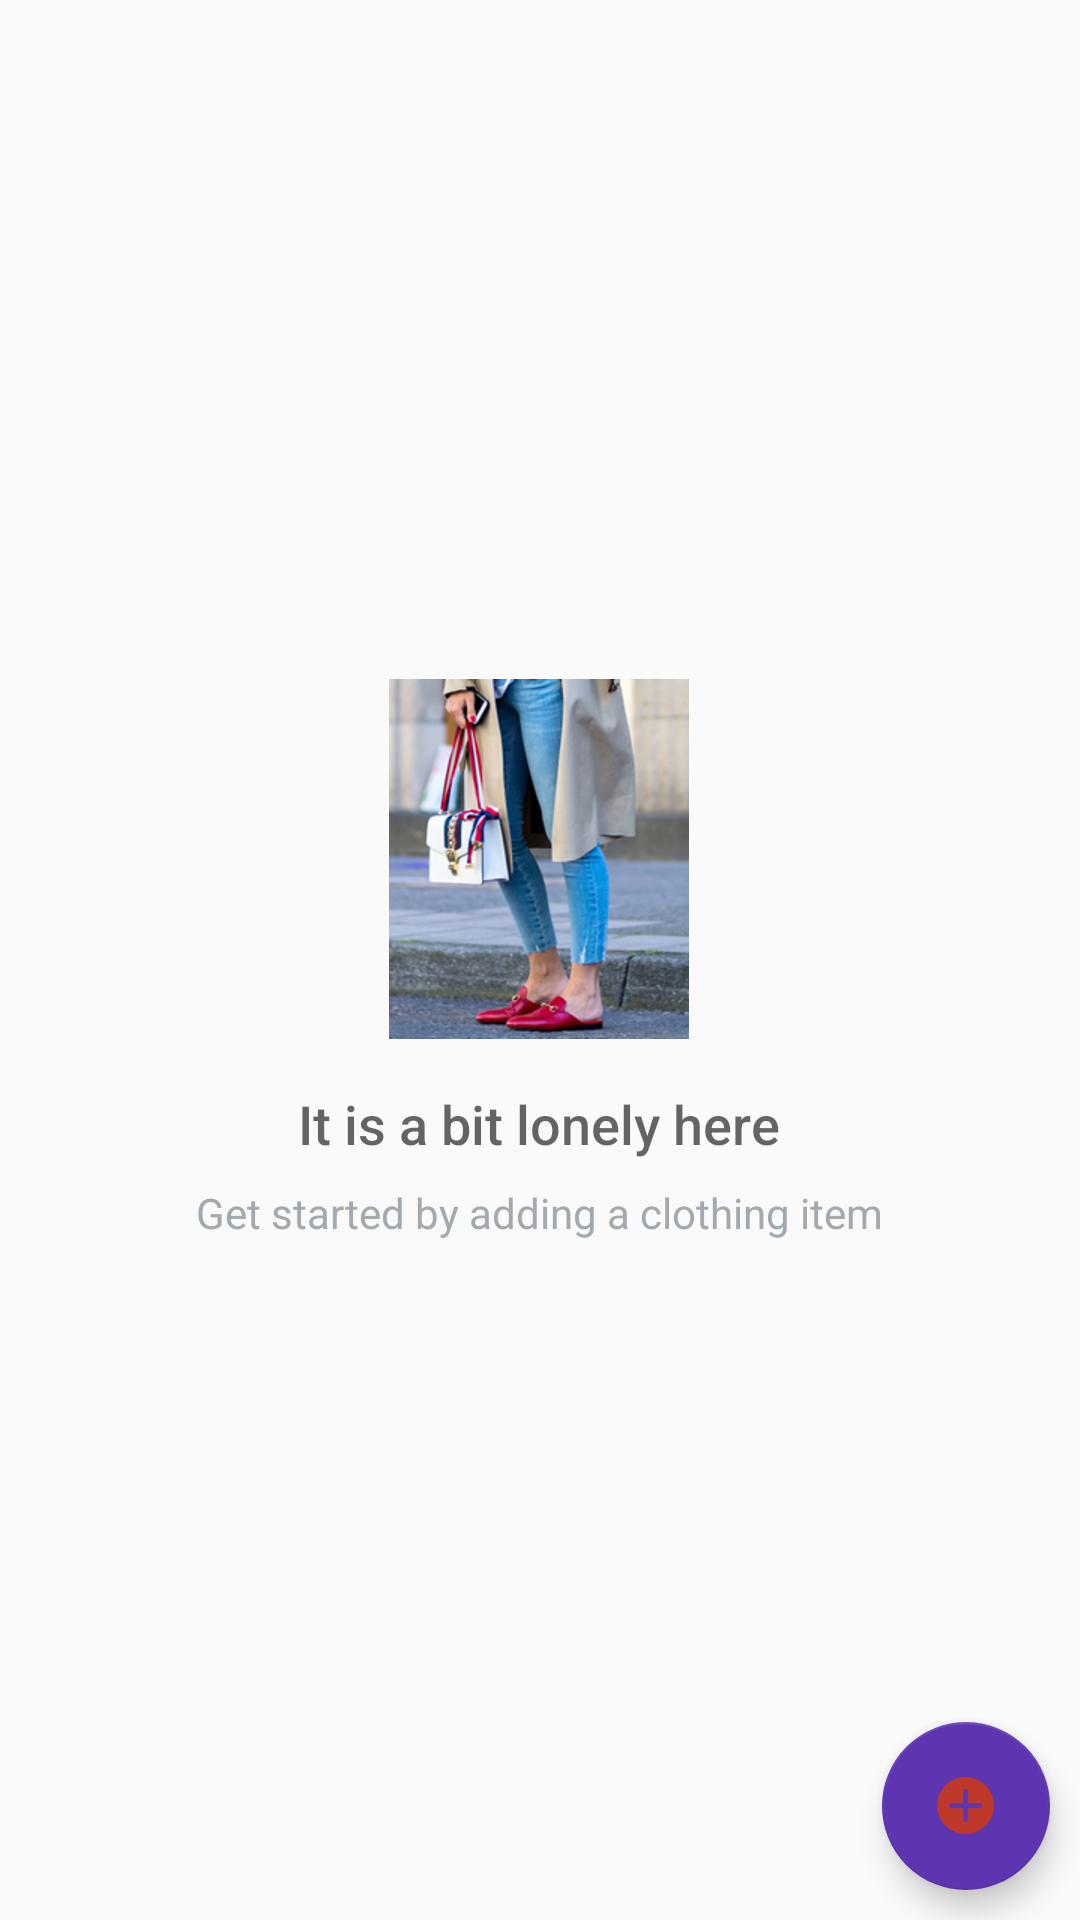

Point at icon controls on the screen. Image size 1080px×1920px, points as (x,y).
fashion: (539,859)
plus: (966,1806)
